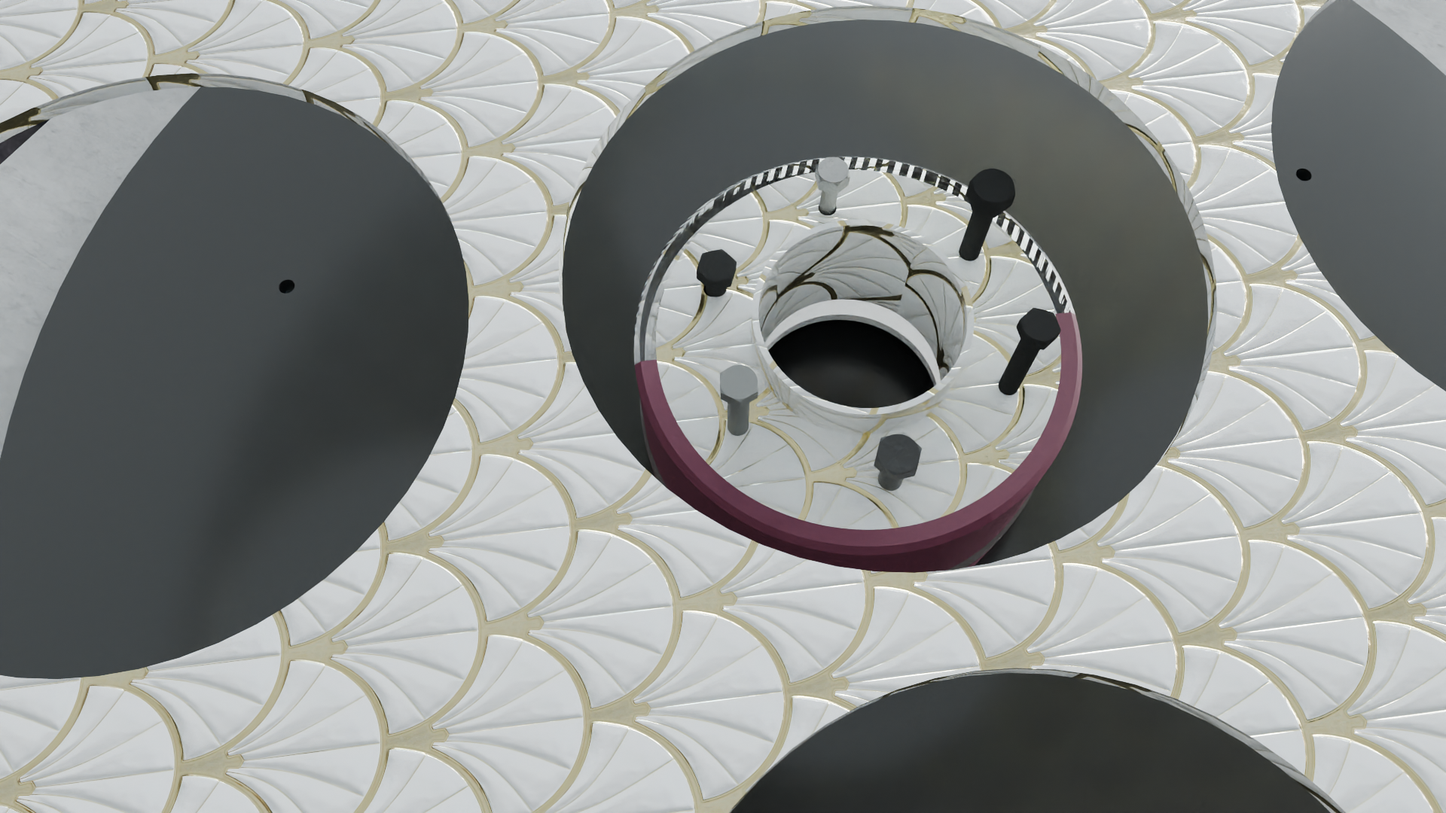bolt: (876, 432, 922, 476), (970, 169, 1015, 208), (720, 363, 758, 402), (1020, 308, 1061, 343), (697, 249, 737, 283), (816, 157, 850, 187)
